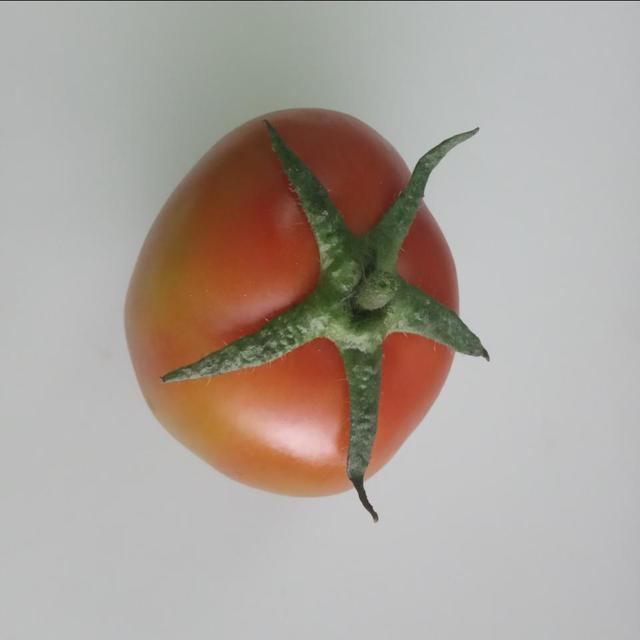Healthy Fruit: (81, 71, 311, 334)
